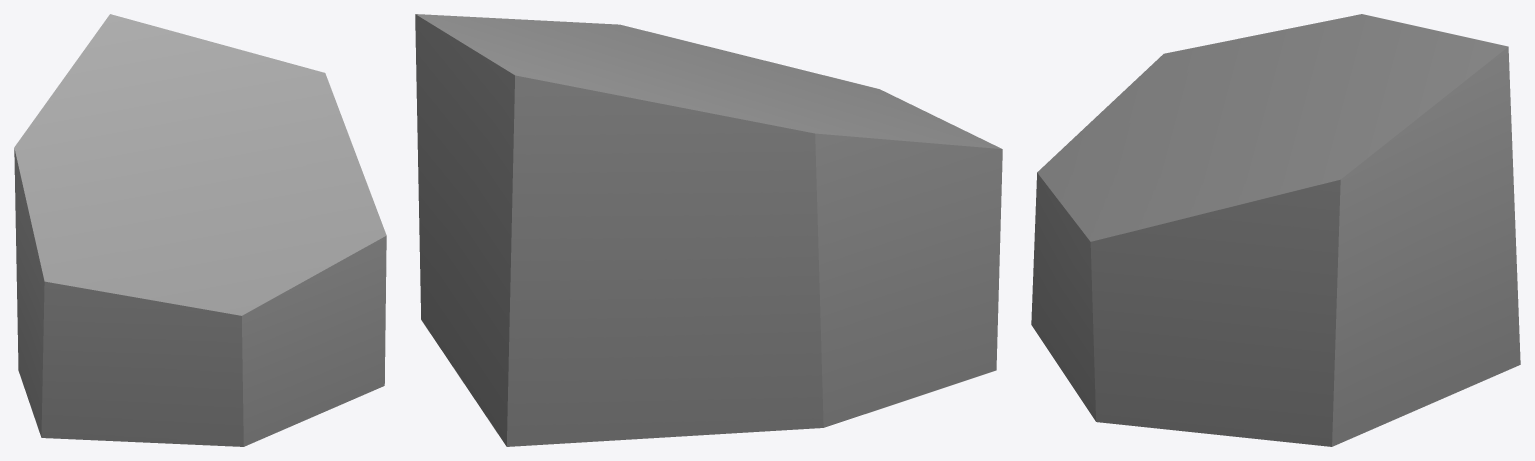
Rendered from stone-small-5.glb.
3 renders of one model, left to right at view 1: azimuth 30°, elevation 25°; view 2: azimuth 150°, elevation 25°; view 3: azimuth 270°, elevation 25°, orthographic. The views are drawn at different scales.
Parts seen in each view (by area): view 1: stone small 5; view 2: stone small 5; view 3: stone small 5.
Boxes of the visible parts, left/top/right/bottom form: stone small 5: left=14, top=14, right=386, bottom=446; stone small 5: left=415, top=14, right=1002, bottom=446; stone small 5: left=1031, top=14, right=1520, bottom=446.
Size of the model in its own units: 1.2 by 0.8685 by 1.21.
1 material, 1 textured.
